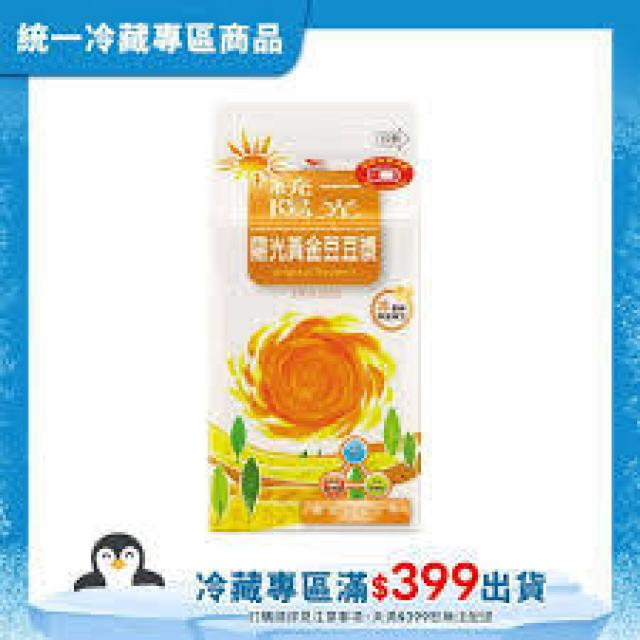TongYi_SoyMilk: (208, 92, 423, 531)
